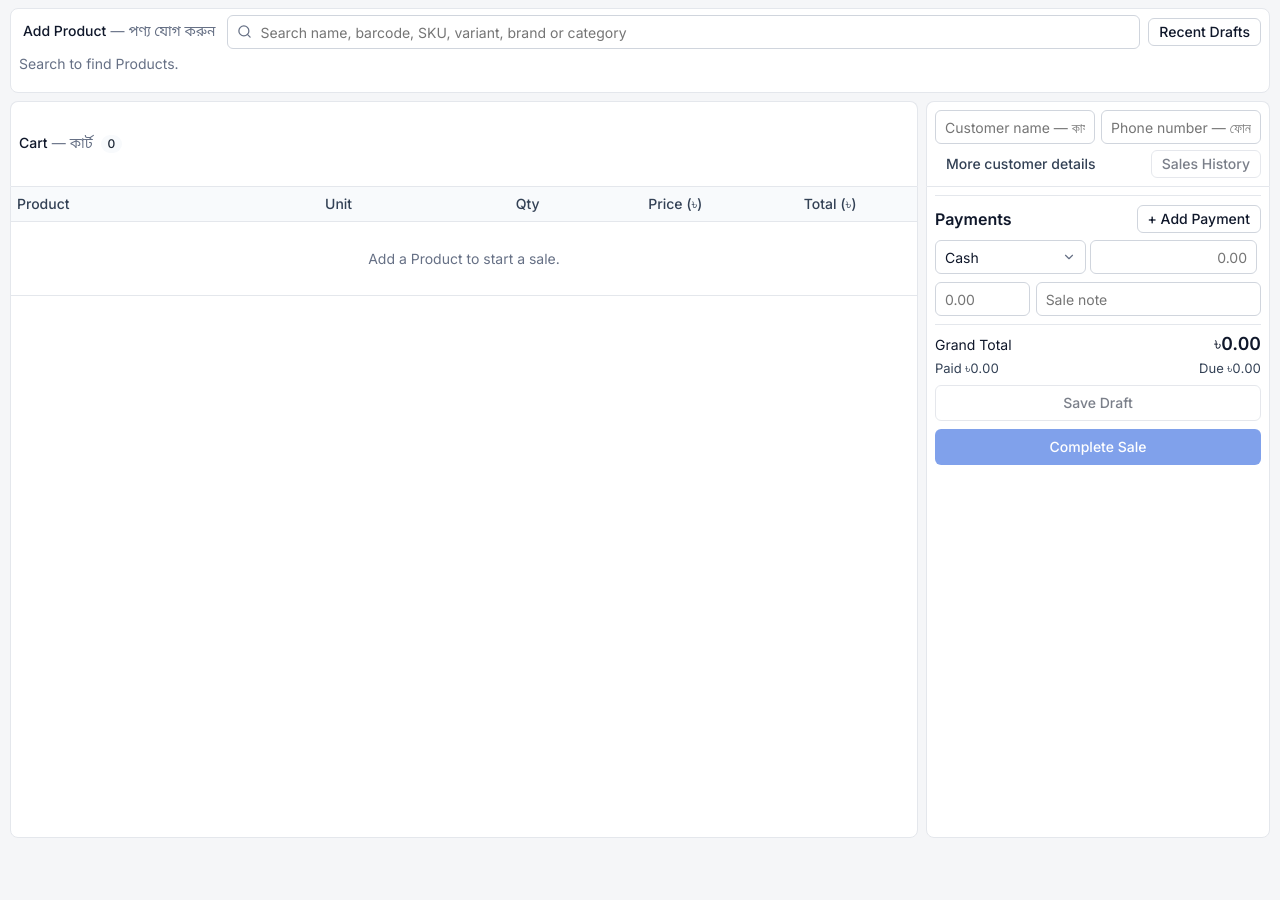
it: Mature POS Customer panel › editing selected Name or Phone clears selectedCustomerId while keeping typed snapshot values
The width and height of the screenshot is (1280, 900).
In the field labelled "Customer name": (1015, 127) x1=935 y1=110 x2=1095 y2=144, type "Rahim"
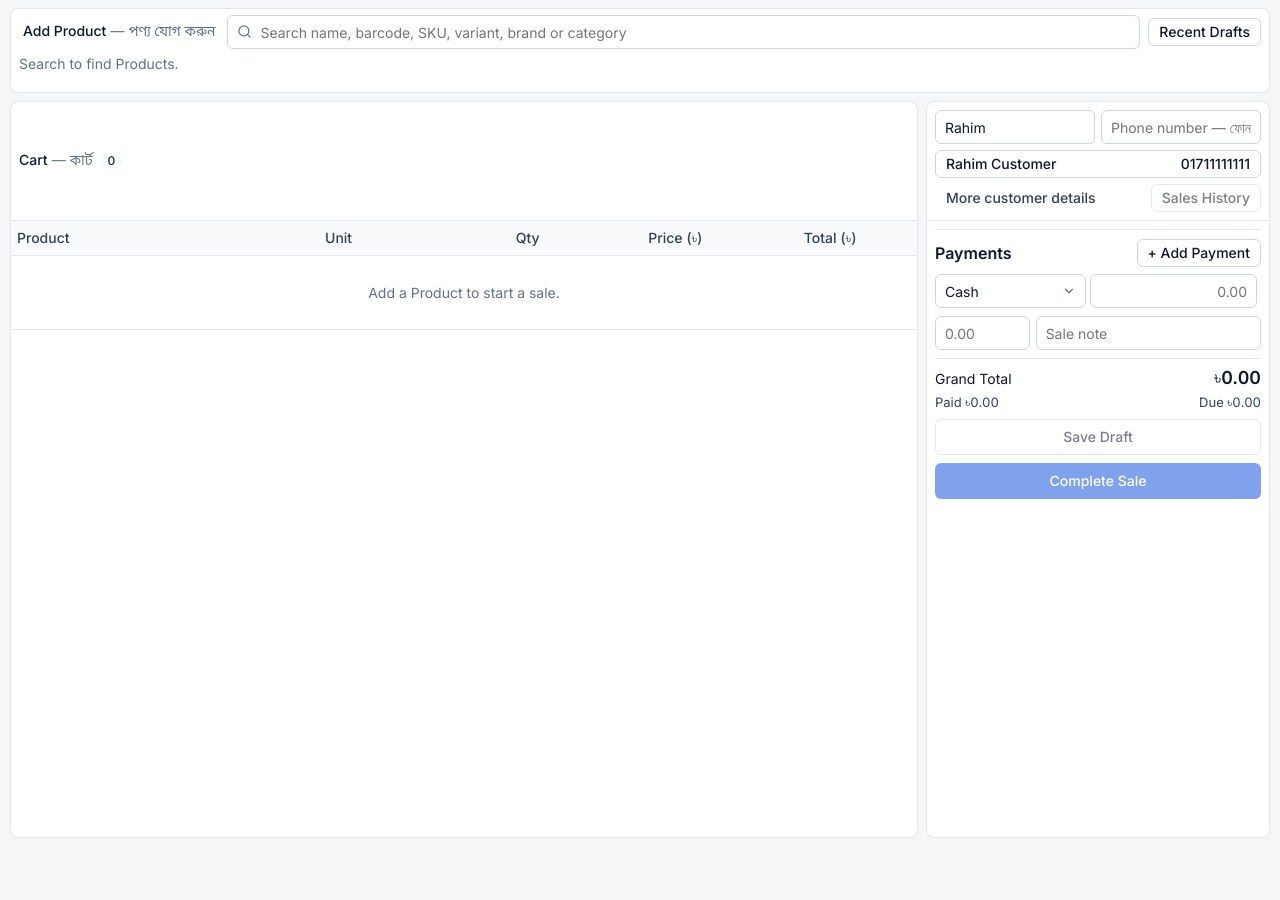
Click the button with aria-label "Select Rahim Customer": (1001, 164) x1=935 y1=150 x2=1261 y2=178
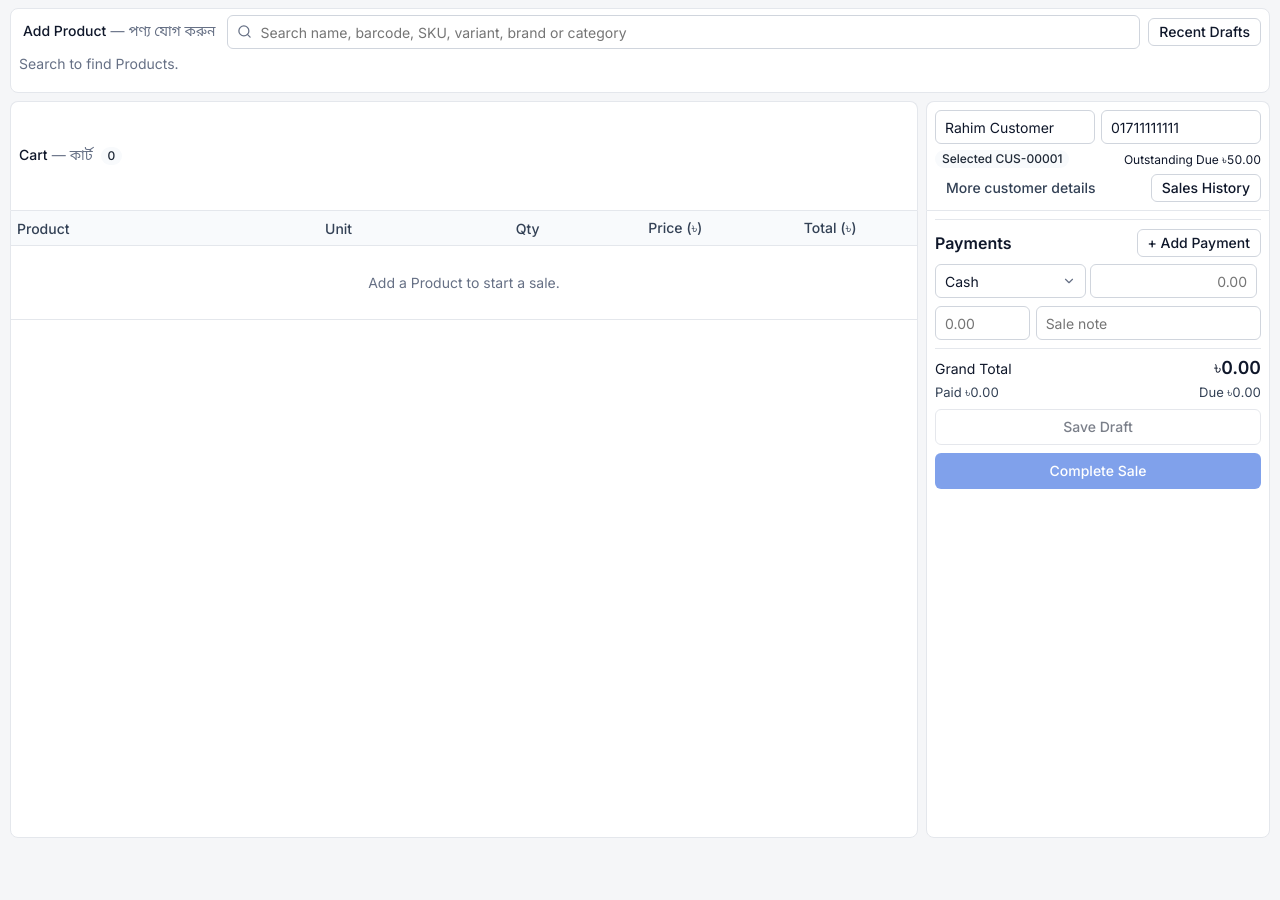
Result: the text "Selected CUS-00001" is shown at x1=935 y1=150 x2=1069 y2=168
Replace the text in the field named "Customer name" with "Rahim Edited": (1015, 127) x1=935 y1=110 x2=1095 y2=144
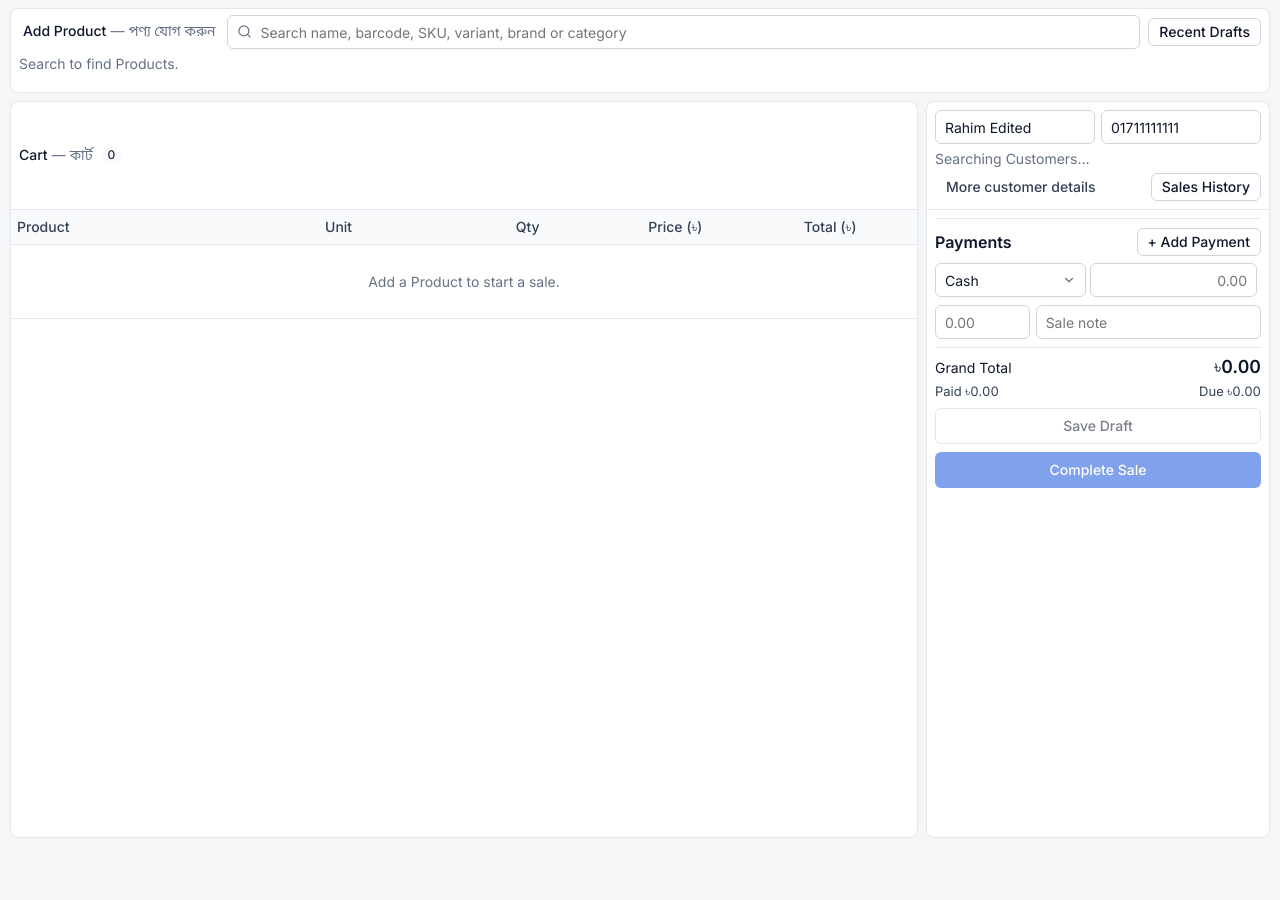
Result: the text "Selected CUS-00001" is gone
Replace the text in the field named "Customer name" with "Rahim": (1015, 127) x1=935 y1=110 x2=1095 y2=144
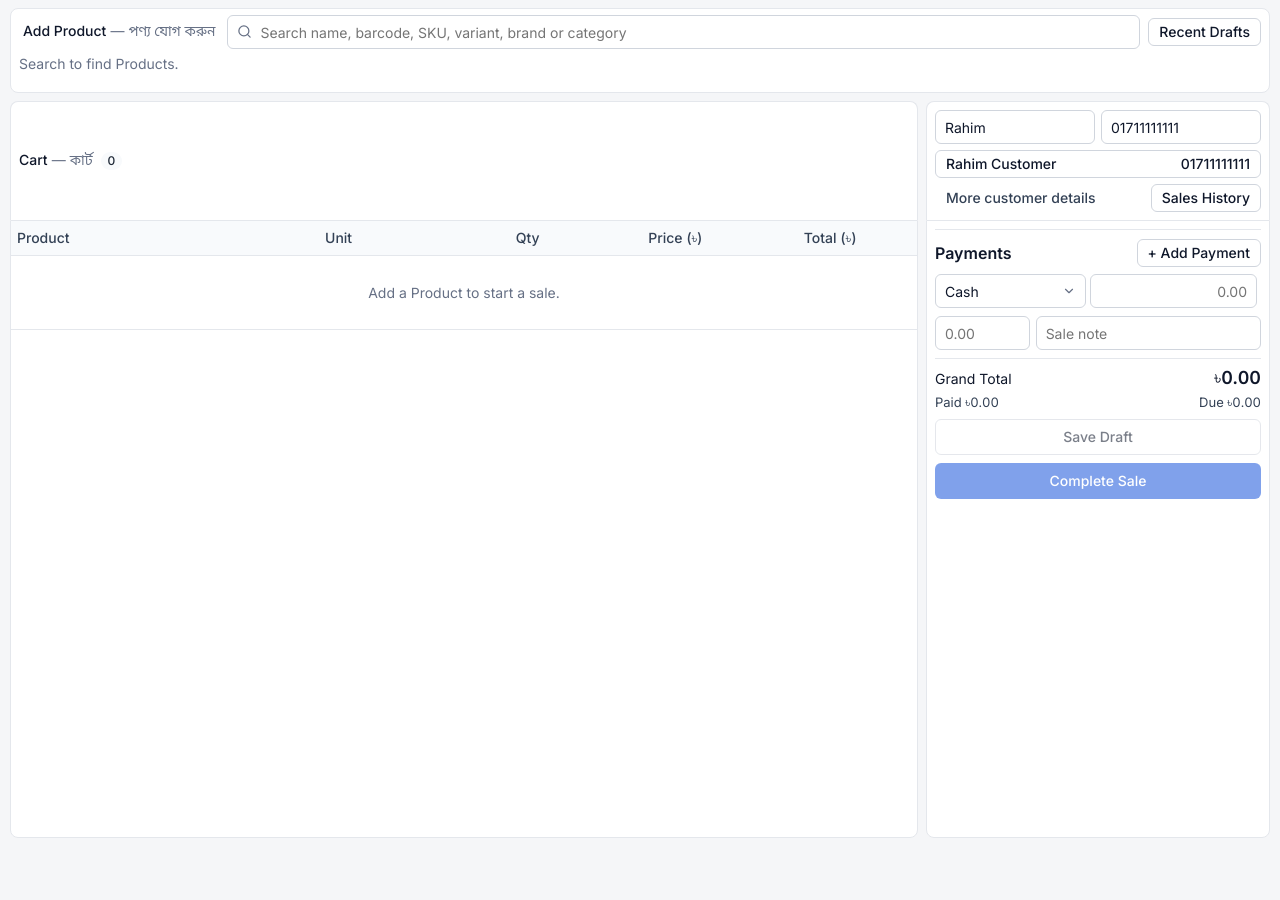
Click the button with aria-label "Select Rahim Customer": (1001, 164) x1=935 y1=150 x2=1261 y2=178
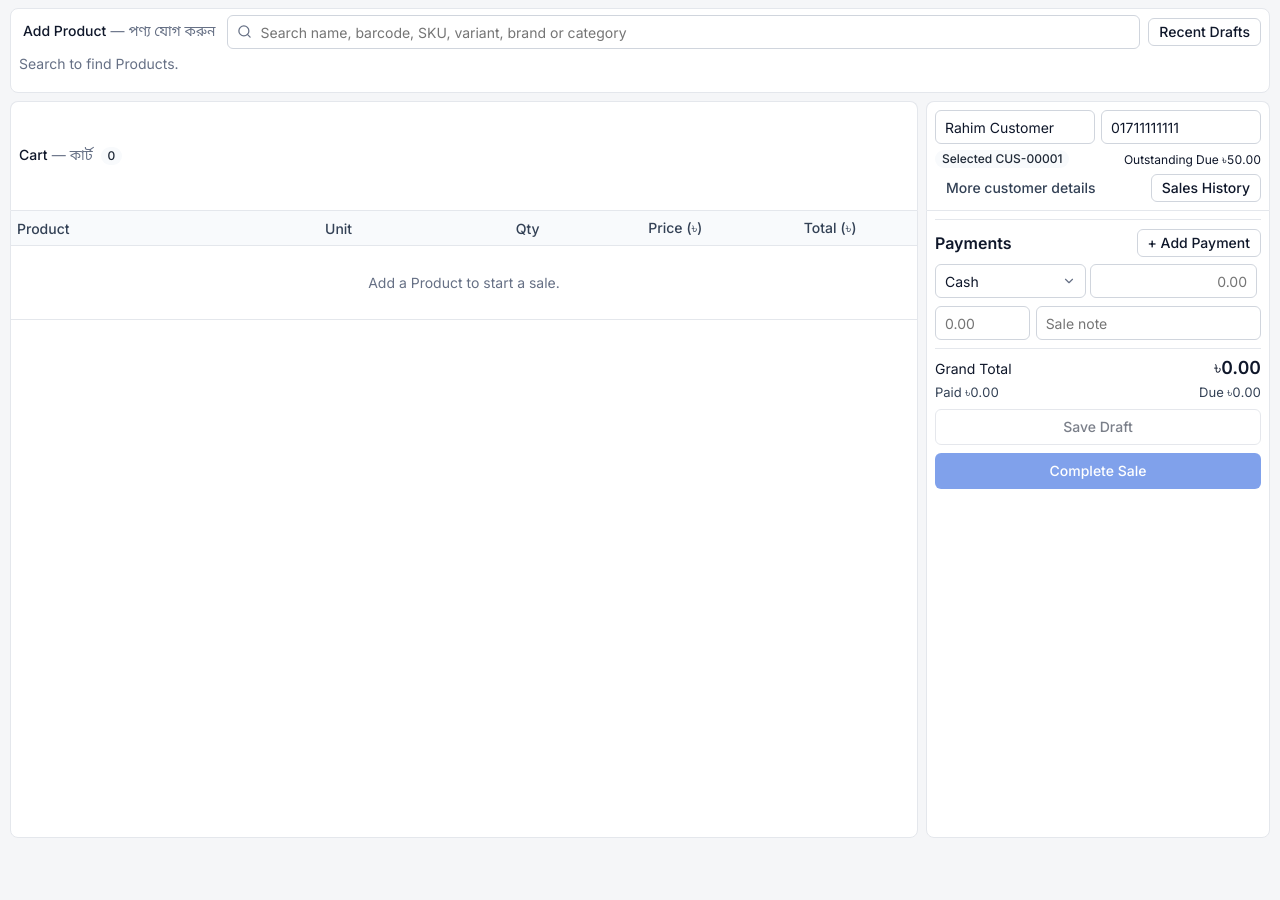
Replace the text in the field named "Customer Phone" with "01799999999": (1181, 127) x1=1101 y1=110 x2=1261 y2=144
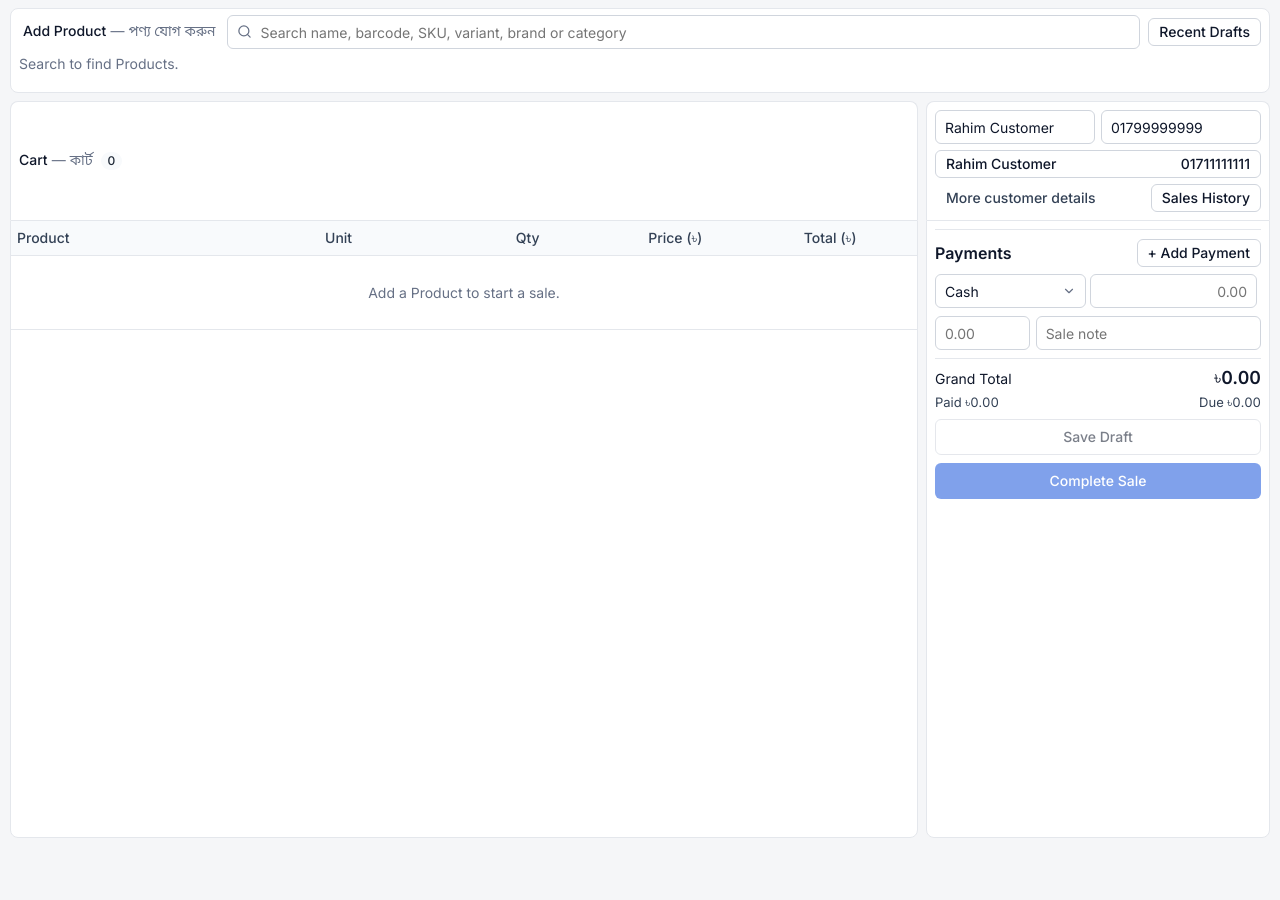
Result: the text "Selected CUS-00001" is gone
